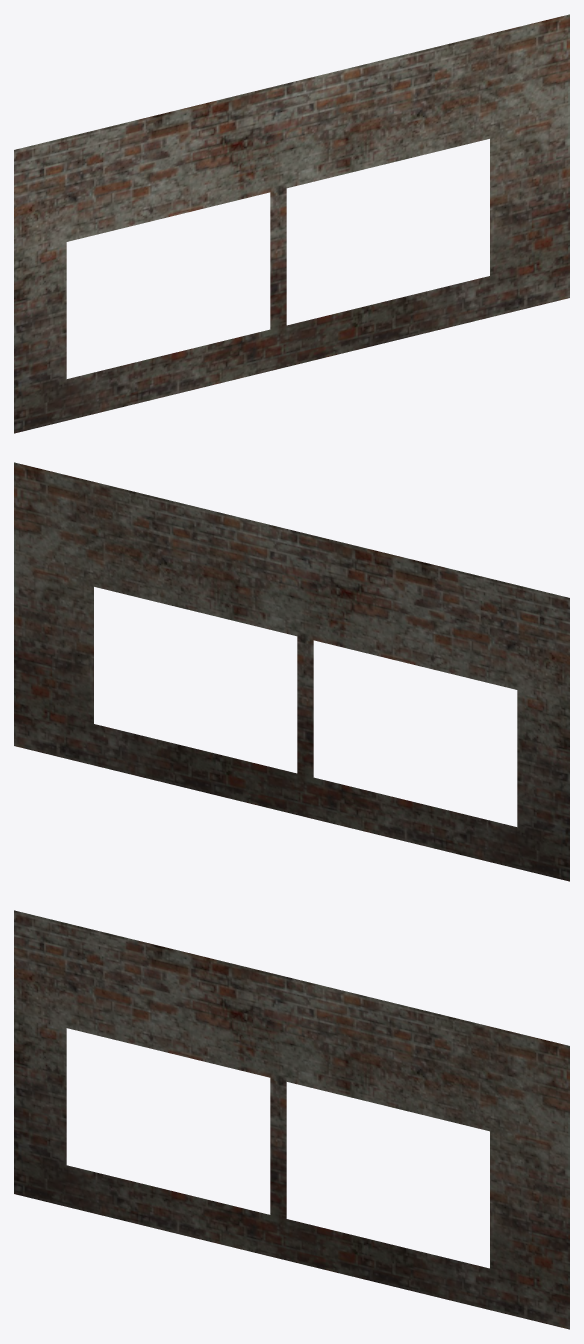
Rendered from BrickWall.FBX.
3 renders of one model, top to bottom at view 1: azimuth 30°, elevation 25°; view 2: azimuth 150°, elevation 25°; view 3: azimuth 330°, elevation 25°, orthographic.
Size of the model in its own units: 764 by 372 by 0.000115.
1 material, 1 textured.
